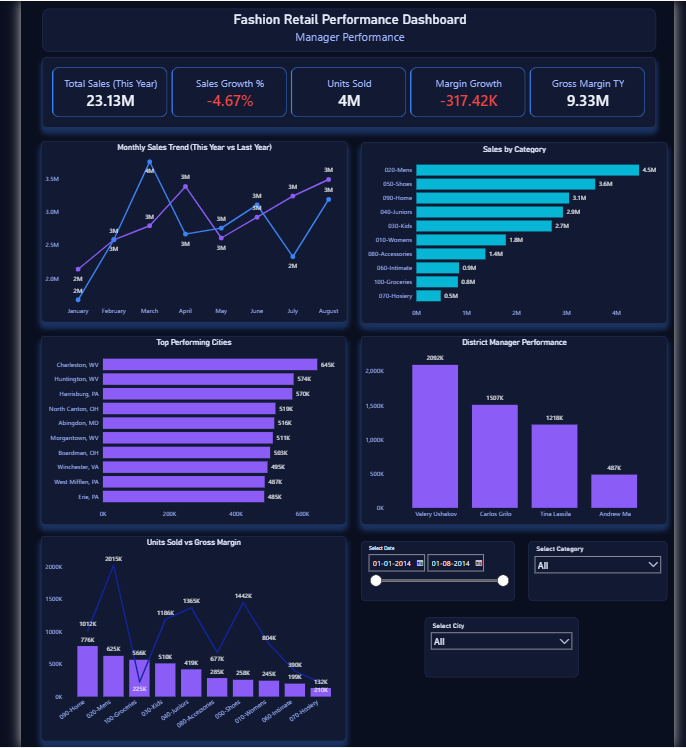

What the dashboard file says about the page in this screenshot:
{"tool":"powerbi","page":{"name":"Page 1","canvas":[1400,1600],"ordinal":0},"visuals":[{"type":"textbox","title":"Fashion Retail Performance Dashboard","box":[45.2,15.1,1317,93],"z":1},{"type":"cardVisual","fields":{"Data":["Fashion.Total Sales LY","Fashion.Sales Growth %","Fashion.Total Units TY","Fashion.Margin Growth","Fashion.Gross Margin TY"]},"box":[45.6,120.6,1316.4,150.1],"z":2},{"type":"lineChart","title":"Monthly Sales Trend (This Year vs Last Year)","fields":{"Category":["Fashion.Date.Variation.Date Hierarchy.Month"],"Y":["Sum(Fashion.Last Year Sales)","Sum(Fashion.This Year Sales)"]},"box":[42.9,300.3,656.8,388.7],"z":3},{"type":"clusteredBarChart","title":"Sales by Category","fields":{"Category":["Fashion.Category"],"Y":["Sum(Fashion.This Year Sales)"]},"box":[729.2,303,656.8,388.7],"z":4},{"type":"clusteredBarChart","title":"Top Performing Cities","fields":{"Category":["Fashion.City"],"Y":["Sum(Fashion.This Year Sales)"]},"box":[42.9,718.5,654.2,404.8],"z":5},{"type":"clusteredColumnChart","title":"District Manager Performance","fields":{"Y":["Sum(Fashion.This Year Sales)"],"Category":["Fashion.District Manager"]},"box":[729.2,718.5,656.8,404.8],"z":6},{"type":"lineStackedColumnComboChart","title":"Units Sold vs Gross Margin","fields":{"Category":["Fashion.Category"],"Y":["Fashion.Total Units TY"],"Y2":["Fashion.Gross Margin TY"]},"box":[42.9,1147.5,654.2,439.7],"z":7},{"type":"slicer","fields":{"Values":["Fashion.Date"]},"box":[729.2,1158.2,329.8,128.7],"z":8},{"type":"slicer","fields":{"Values":["Fashion.Category"]},"box":[1088.5,1158.2,297.6,128.7],"z":9},{"type":"slicer","fields":{"Values":["Fashion.City"]},"box":[866,1321.7,329.8,128.7],"z":10}]}

Visuals, with their boxes on the page's 1400x1600 design canvas (x1, y1, x2, y2). These are canvas units, not pixel positions in the 686x748 screenshot, which may show the page scaled, cropped or inside an application window:
"Fashion Retail Performance Dashboard" textbox: 45/15/1362/108
cardVisual - Fashion.Total Sales LY x Fashion.Sales Growth %: 46/121/1362/271
"Monthly Sales Trend (This Year vs Last Year)" lineChart: 43/300/700/689
"Sales by Category" clusteredBarChart: 729/303/1386/692
"Top Performing Cities" clusteredBarChart: 43/718/697/1123
"District Manager Performance" clusteredColumnChart: 729/718/1386/1123
"Units Sold vs Gross Margin" lineStackedColumnComboChart: 43/1148/697/1587
slicer - Fashion.Date: 729/1158/1059/1287
slicer - Fashion.Category: 1088/1158/1386/1287
slicer - Fashion.City: 866/1322/1196/1450
